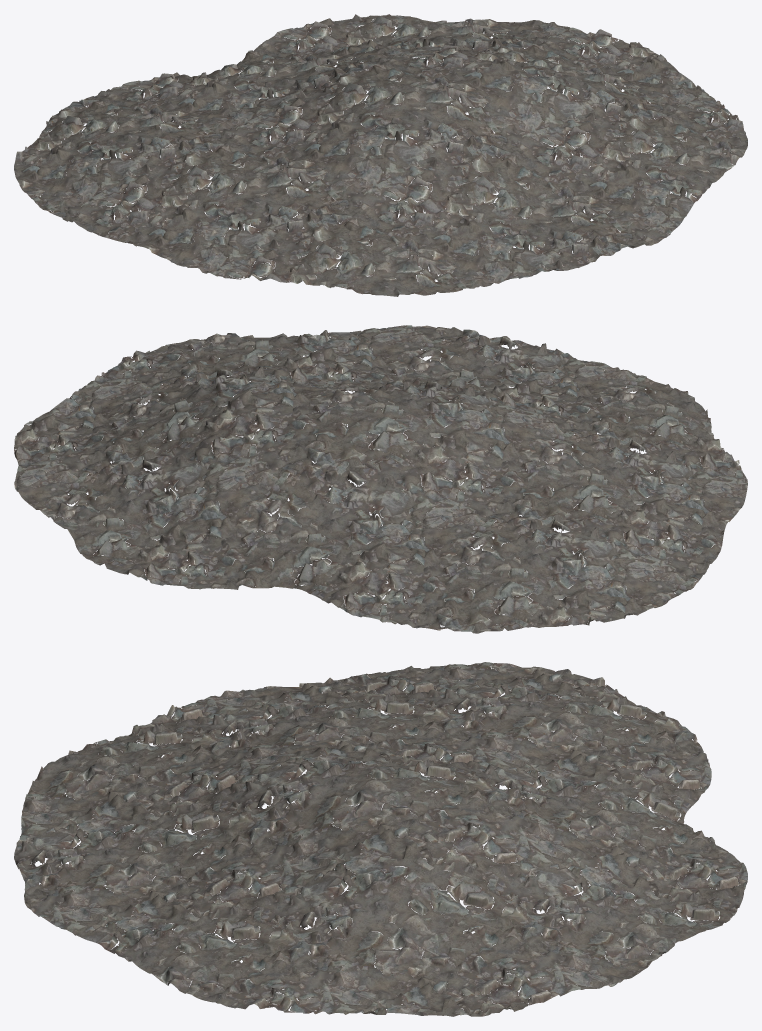
The picture shows the model from 3 angles, top to bottom: view 1: azimuth 30°, elevation 25°; view 2: azimuth 150°, elevation 25°; view 3: azimuth 270°, elevation 25°; orthographic projection. The views are drawn at different scales.
Parts seen in each view (by area): view 1: SM_SaradominTemple_Rubble_02_v3_nanite_50k_LOD0; view 2: SM_SaradominTemple_Rubble_02_v3_nanite_50k_LOD0; view 3: SM_SaradominTemple_Rubble_02_v3_nanite_50k_LOD0.
Part boxes in pixels (x1,y1,x2,y2): SM_SaradominTemple_Rubble_02_v3_nanite_50k_LOD0: (14, 14, 747, 296); SM_SaradominTemple_Rubble_02_v3_nanite_50k_LOD0: (14, 325, 747, 633); SM_SaradominTemple_Rubble_02_v3_nanite_50k_LOD0: (14, 662, 747, 1016).
Bounding box in the file's own units: 14.01 × 1.44 × 12.35.
Materials: 1 (1 with a texture image).
